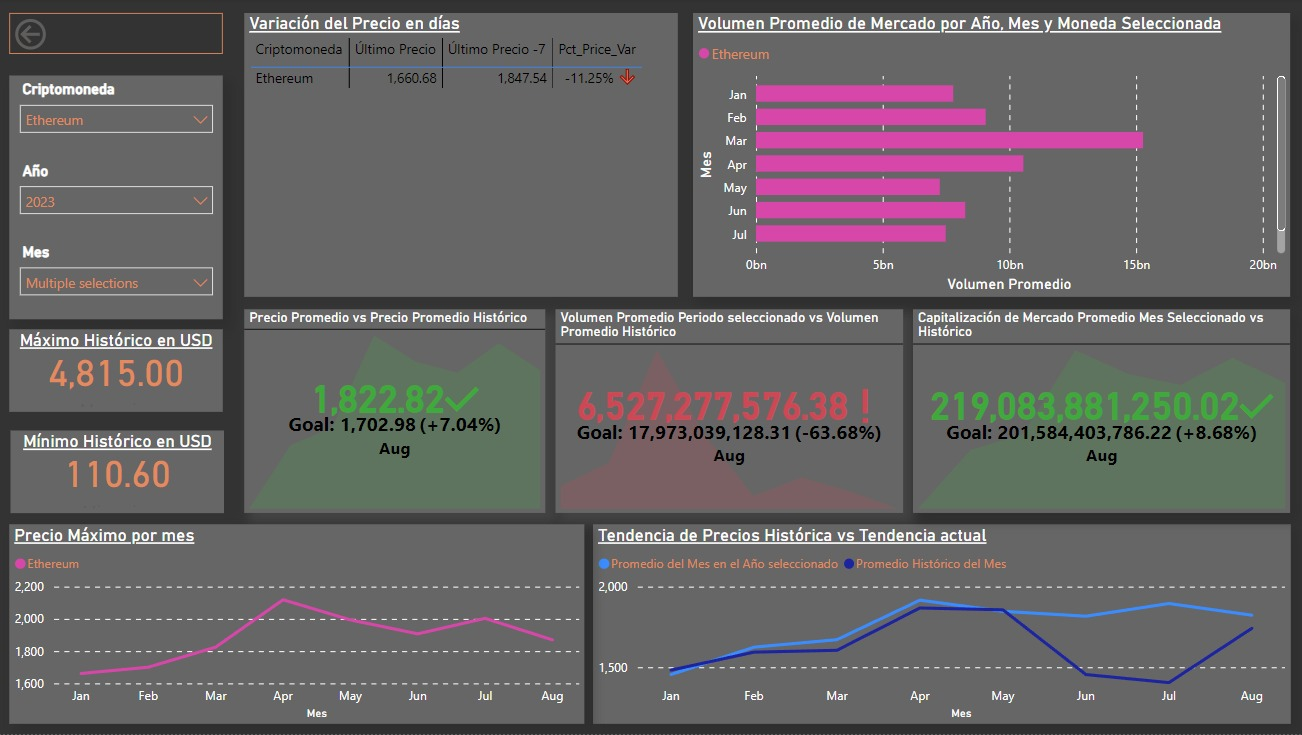

The dashboard page shown, as its layout file describes it:
{"tool":"powerbi","page":{"name":"Vol_Price","canvas":[1280,720],"ordinal":2},"visuals":[{"type":"shape","box":[11,75.8,209,238.4],"z":0},{"type":"barChart","title":"Volumen Promedio de Mercado por Año, Mes y Moneda Seleccionada","fields":{"Category":["Dim_Dates.Month"],"Y":["Avg(Fact_Coins.total_volumes)"],"Series":["Fact_Coins.name"]},"box":[679.7,14.7,584.3,277.5],"z":1000},{"type":"slicer","fields":{"Values":["Dim_Coins.name"]},"box":[11,75.8,209,79.5],"z":2000},{"type":"actionButton","box":[11,14.7,209,40.3],"z":3000},{"type":"slicer","fields":{"Values":["Dim_Dates.Year"]},"box":[11,155.2,209,79.5],"z":4000},{"type":"card","title":"Mínimo Histórico en USD","fields":{"Values":["Medidas.Min_price"]},"box":[12.2,423,209,80.7],"z":5000},{"type":"card","title":"Máximo Histórico en USD","fields":{"Values":["Medidas.Max_price"]},"box":[11,323.9,209,80.7],"z":6000},{"type":"slicer","fields":{"Values":["Dim_Dates.Month"]},"box":[11,234.7,209,79.5],"z":7000},{"type":"kpi","title":"Precio Promedio vs Precio Promedio Histórico","fields":{"TrendLine":["Dim_Dates.Month"],"Goal":["Medidas.avg_price"],"Indicator":["Medidas.avg_price1"]},"box":[240.8,304.4,294.6,199.3],"z":8000},{"type":"lineChart","title":"Tendencia de Precios Histórica vs Tendencia actual","fields":{"Y":["Avg(Fact_Coins.prices)","Medidas.AVG_Price_month"],"Category":["Dim_Dates.Month","Dim_Dates.Date"]},"box":[581.9,514.6,682.1,195.6],"z":9000},{"type":"tableEx","title":"Variación del Precio en días","fields":{"Values":["Fact_Coins.name","Medidas.Price_Today","Medidas.Price_Today_-7","Medidas.Pct_Price_Var"]},"box":[240.8,14.7,424.2,277.5],"z":10000},{"type":"lineChart","title":"Precio Máximo por mes","fields":{"Y":["Max(Fact_Coins.prices)"],"Series":["Fact_Coins.name"],"Category":["Dim_Dates.Month","Dim_Dates.Date"]},"box":[11,514.6,562.3,195.6],"z":11000},{"type":"kpi","title":"Volumen Promedio Periodo seleccionado vs Volumen Promedio Histórico","fields":{"TrendLine":["Dim_Dates.Month"],"Indicator":["Avg(Fact_Coins.total_volumes)"],"Goal":["Medidas.avg_volume_all"]},"box":[545.2,304.4,339.8,199.3],"z":11001},{"type":"kpi","title":"Capitalización de Mercado Promedio Mes Seleccionado vs Histórico","fields":{"TrendLine":["Dim_Dates.Month"],"Indicator":["Avg(Fact_Coins.market_caps)"],"Goal":["Medidas.AVG_mkt_cap"]},"box":[894.8,304.4,369.2,199.3],"z":11002}]}

Visuals, with their boxes in screenshot pixels (x1, y1, x2, y2), scaled from the page's 1280x720 canvas onto the 1302x735 screenshot:
shape: [x1=11, y1=77, x2=224, y2=321]
"Volumen Promedio de Mercado por Año, Mes y Moneda Seleccionada" barChart: [x1=691, y1=15, x2=1286, y2=298]
slicer - Dim_Coins.name: [x1=11, y1=77, x2=224, y2=159]
actionButton: [x1=11, y1=15, x2=224, y2=56]
slicer - Dim_Dates.Year: [x1=11, y1=158, x2=224, y2=240]
"Mínimo Histórico en USD" card: [x1=12, y1=432, x2=225, y2=514]
"Máximo Histórico en USD" card: [x1=11, y1=331, x2=224, y2=413]
slicer - Dim_Dates.Month: [x1=11, y1=240, x2=224, y2=321]
"Precio Promedio vs Precio Promedio Histórico" kpi: [x1=245, y1=311, x2=545, y2=514]
"Tendencia de Precios Histórica vs Tendencia actual" lineChart: [x1=592, y1=525, x2=1286, y2=725]
"Variación del Precio en días" tableEx: [x1=245, y1=15, x2=676, y2=298]
"Precio Máximo por mes" lineChart: [x1=11, y1=525, x2=583, y2=725]
"Volumen Promedio Periodo seleccionado vs Volumen Promedio Histórico" kpi: [x1=555, y1=311, x2=900, y2=514]
"Capitalización de Mercado Promedio Mes Seleccionado vs Histórico" kpi: [x1=910, y1=311, x2=1286, y2=514]
